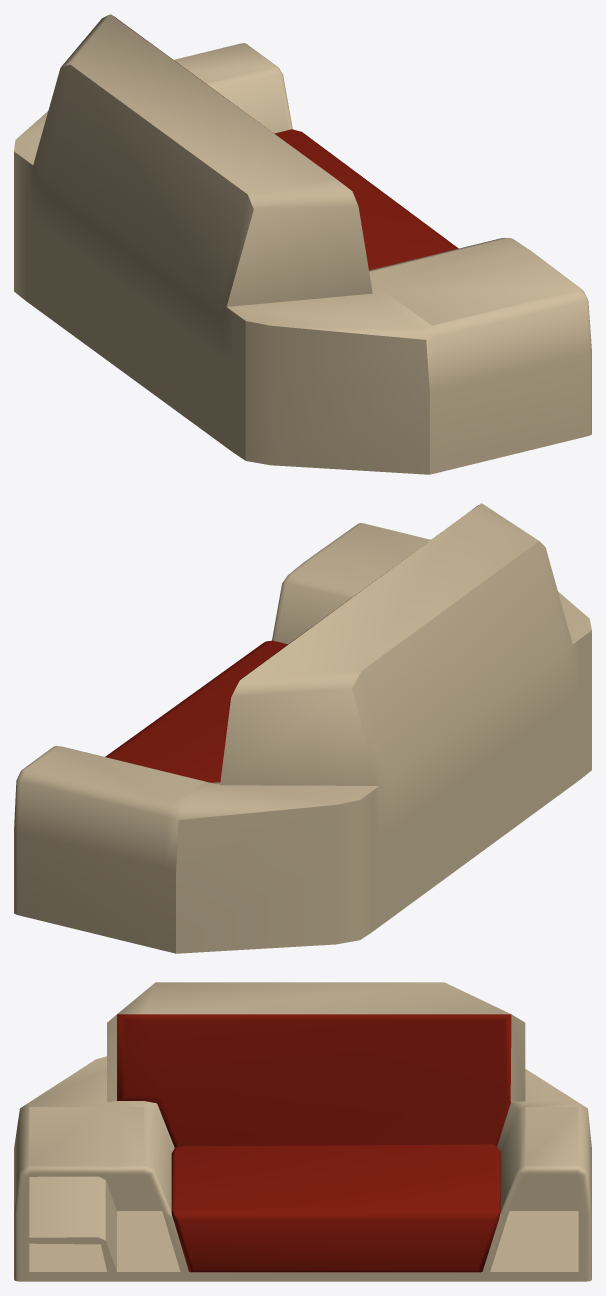
Rendered from canapé_cuir.fbx.
The picture shows the model from 3 angles, top to bottom: view 1: azimuth 30°, elevation 25°; view 2: azimuth 150°, elevation 25°; view 3: azimuth 270°, elevation 25°; orthographic projection. The views are drawn at different scales.
Visible parts, largest first — view 1: Object001; view 2: Object001; view 3: Object001.
Part boxes in pixels (x1,y1,x2,y2): Object001: (14, 14, 591, 474); Object001: (14, 503, 591, 953); Object001: (14, 982, 591, 1281).
Size of the model in its own units: 23.26 by 18.35 by 48.52.
